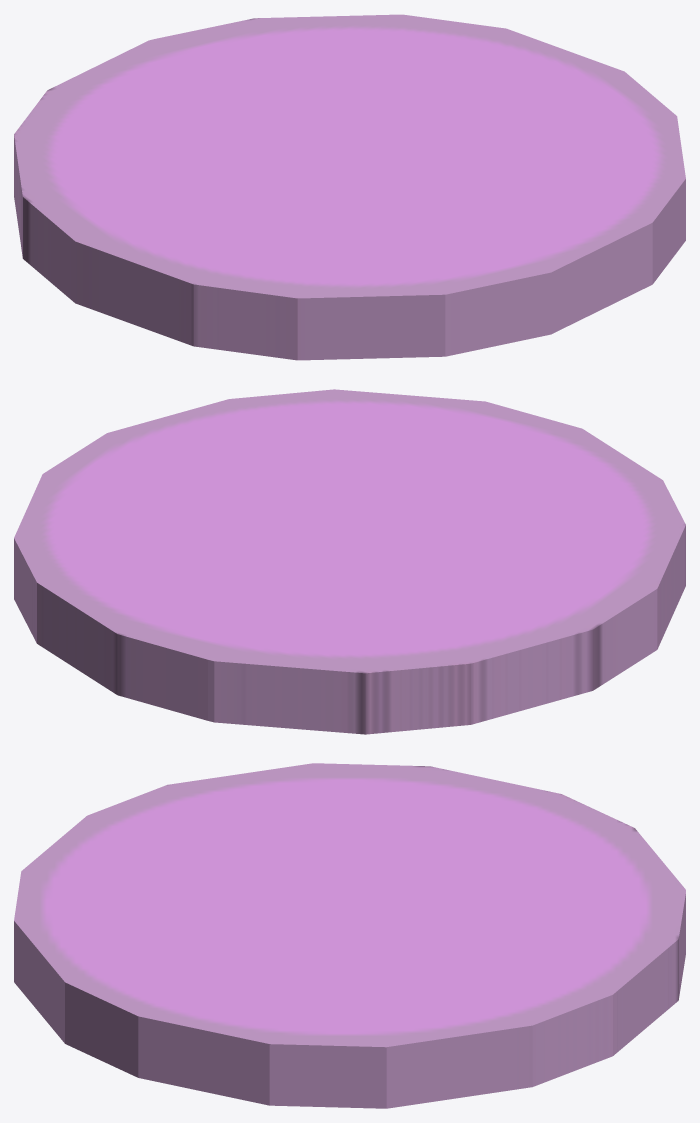
Rendered from nucleolus.gltf.
3 renders of one model, top to bottom at view 1: azimuth 30°, elevation 25°; view 2: azimuth 150°, elevation 25°; view 3: azimuth 270°, elevation 25°, orthographic.
Size of the model in its own units: 0.0234 by 0.00236 by 0.0234.
1 material, 1 textured.
